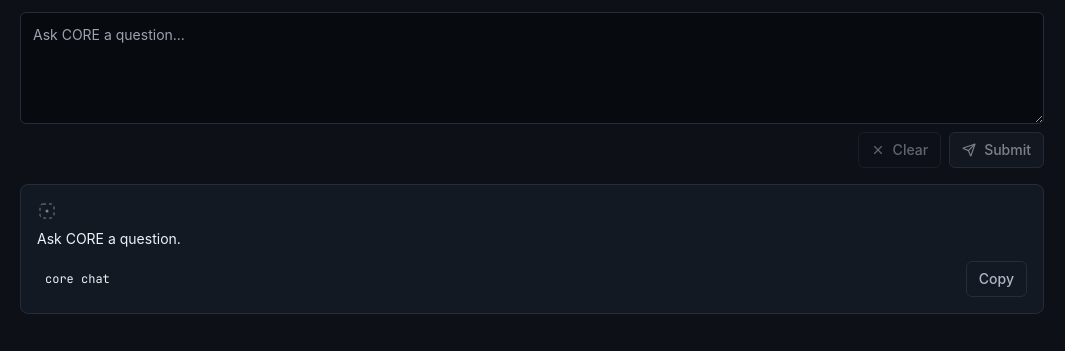
Test: ChatRoute › renders response and evidence badges on success
This screenshot has width=1065, height=351.
Type "What is truth?" into the text box with placeholder "Ask CORE a question..." at x=532, y=68, box top-left (20, 12), bottom-right (1044, 124)
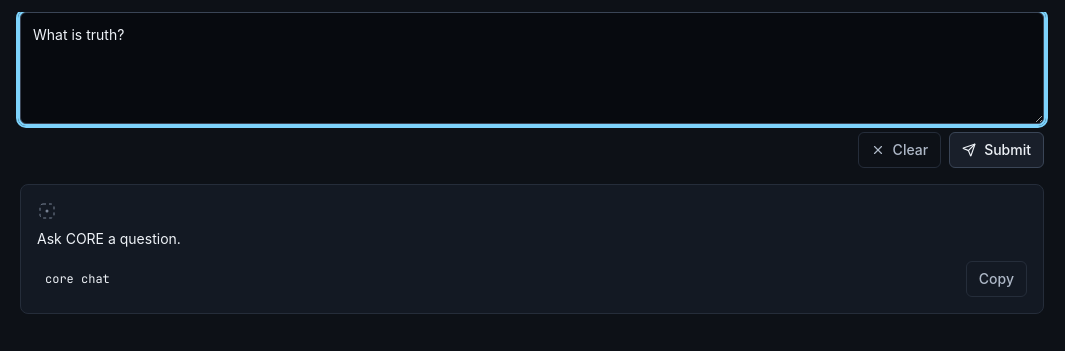
Click the button "Submit" at x=997, y=150, box top-left (949, 132), bottom-right (1044, 168)
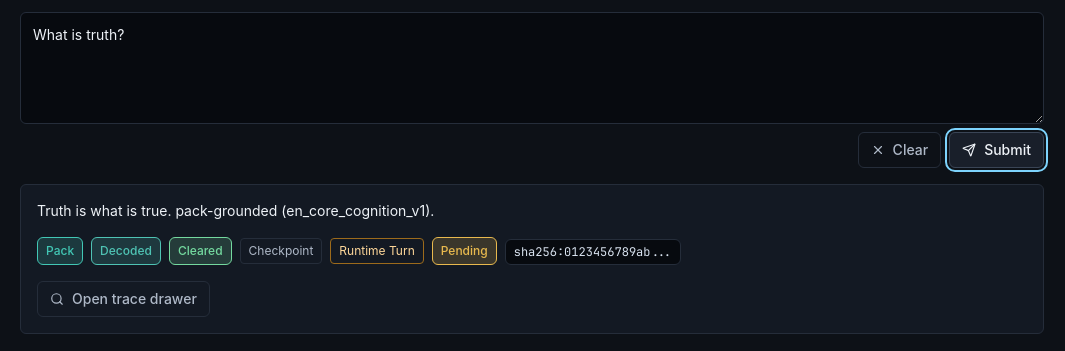
Now the text "Truth is what is true. pack-grounded (en_core_cognition_v1)." is shown, box top-left (37, 202), bottom-right (434, 219)
Now the button "Pack" is shown, box top-left (37, 237), bottom-right (83, 265)
Now the button "Cleared" is shown, box top-left (169, 237), bottom-right (232, 265)
